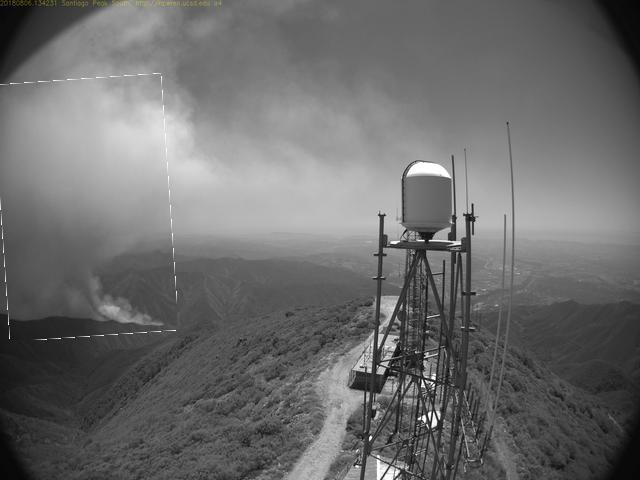smoke: (1, 77, 175, 340)
